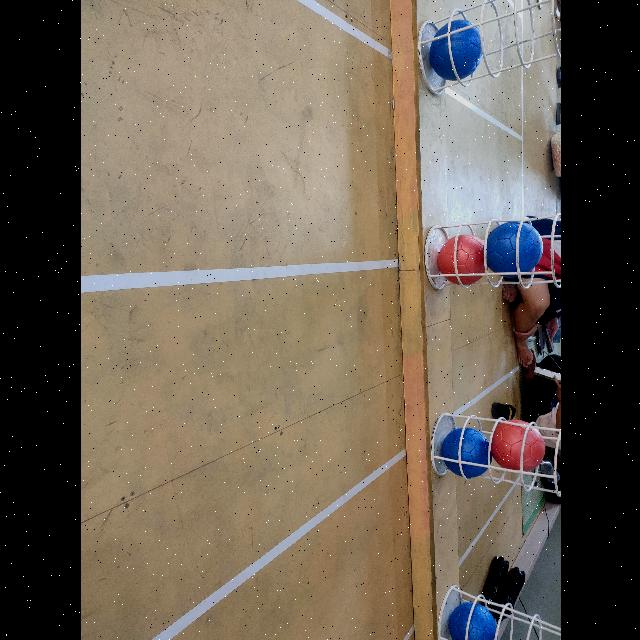B: (430, 20, 484, 82), (484, 222, 544, 276), (442, 428, 491, 478), (447, 602, 497, 640)
R: (490, 418, 544, 472), (436, 234, 486, 284)
